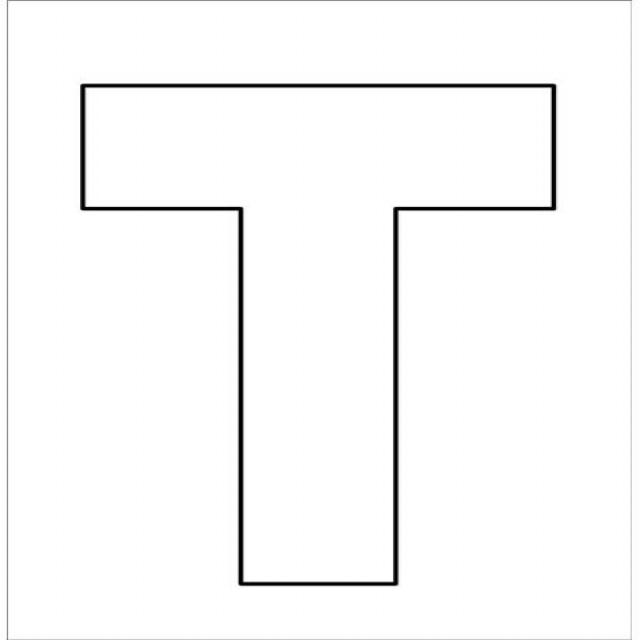T: (51, 49, 583, 596)
